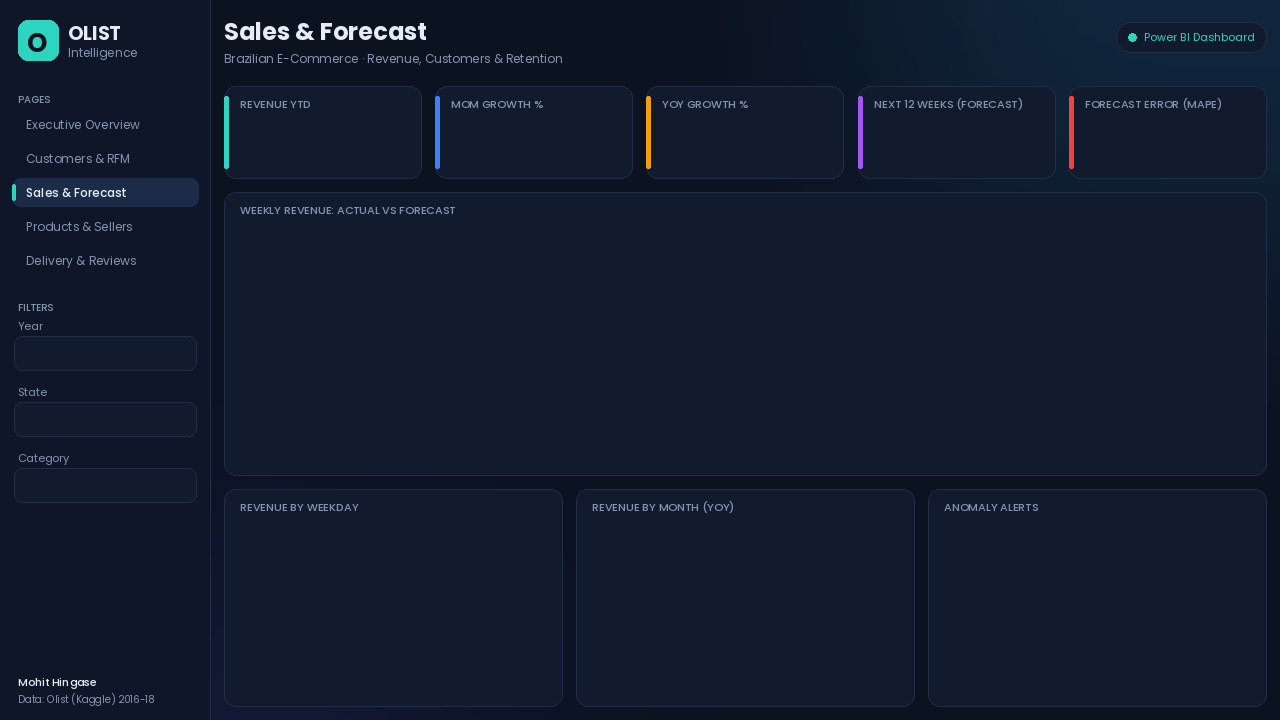

What the dashboard file says about the page in this screenshot:
{"tool":"powerbi","page":{"name":"Sales & Forecast","canvas":[1280,720],"ordinal":2},"visuals":[{"type":"card","fields":{"Values":["fact_orders.Revenue YTD"]},"box":[234,112,179,62],"z":1000},{"type":"card","fields":{"Values":["fact_orders.YoY Growth %"]},"box":[445,112,179,62],"z":1000},{"type":"card","fields":{"Values":["forecast_chart.Avg Weekly Revenue"]},"box":[656,112,179,62],"z":1000},{"type":"card","fields":{"Values":["forecast_chart.Forecast Next 12W"]},"box":[868,112,179,62],"z":1000},{"type":"card","fields":{"Values":["fact_orders.Forecast MAPE"]},"box":[1079,112,179,62],"z":1000},{"type":"lineChart","fields":{"Category":["forecast_chart.week"],"Y":["forecast_chart.Actual Revenue","forecast_chart.Forecast Revenue","forecast_chart.Forecast Lower","forecast_chart.Forecast Upper"]},"box":[230,222,1030,247],"z":1000},{"type":"columnChart","fields":{"Category":["dim_date.day_name"],"Y":["fact_orders.Revenue"]},"box":[230,519,326,181],"z":1000},{"type":"lineChart","fields":{"Category":["dim_date.month_name"],"Series":["dim_date.year"],"Y":["fact_orders.Revenue"]},"box":[582,519,326,181],"z":1000},{"type":"tableEx","fields":{"Values":["agg_revenue_anomalies.week","agg_revenue_anomalies.alert","agg_revenue_anomalies.revenue","agg_revenue_anomalies.change_pct"]},"box":[934,519,326,181],"z":1000},{"type":"slicer","fields":{"Values":["dim_date.year"]},"box":[14,351,182,40],"z":3000},{"type":"slicer","fields":{"Values":["dim_customer.state"]},"box":[14,417,182,40],"z":3000},{"type":"slicer","fields":{"Values":["dim_product.category"]},"box":[14,483,182,40],"z":3000},{"type":"actionButton","box":[12,110,186,28],"z":4000},{"type":"actionButton","box":[12,144,186,28],"z":4001},{"type":"actionButton","box":[12,212,186,28],"z":4003},{"type":"actionButton","box":[12,246,186,28],"z":4004}]}

Visuals, with their boxes on the page's 1280x720 design canvas (x1, y1, x2, y2). These are canvas units, not pixel positions in the 1280x720 screenshot, which may show the page scaled, cropped or inside an application window:
card - fact_orders.Revenue YTD: {"x1": 234, "y1": 112, "x2": 413, "y2": 174}
card - fact_orders.YoY Growth %: {"x1": 445, "y1": 112, "x2": 624, "y2": 174}
card - forecast_chart.Avg Weekly Revenue: {"x1": 656, "y1": 112, "x2": 835, "y2": 174}
card - forecast_chart.Forecast Next 12W: {"x1": 868, "y1": 112, "x2": 1047, "y2": 174}
card - fact_orders.Forecast MAPE: {"x1": 1079, "y1": 112, "x2": 1258, "y2": 174}
lineChart - forecast_chart.week x forecast_chart.Actual Revenue: {"x1": 230, "y1": 222, "x2": 1260, "y2": 469}
columnChart - dim_date.day_name x fact_orders.Revenue: {"x1": 230, "y1": 519, "x2": 556, "y2": 700}
lineChart - dim_date.month_name x dim_date.year: {"x1": 582, "y1": 519, "x2": 908, "y2": 700}
tableEx - agg_revenue_anomalies.week x agg_revenue_anomalies.alert: {"x1": 934, "y1": 519, "x2": 1260, "y2": 700}
slicer - dim_date.year: {"x1": 14, "y1": 351, "x2": 196, "y2": 391}
slicer - dim_customer.state: {"x1": 14, "y1": 417, "x2": 196, "y2": 457}
slicer - dim_product.category: {"x1": 14, "y1": 483, "x2": 196, "y2": 523}
actionButton: {"x1": 12, "y1": 110, "x2": 198, "y2": 138}
actionButton: {"x1": 12, "y1": 144, "x2": 198, "y2": 172}
actionButton: {"x1": 12, "y1": 212, "x2": 198, "y2": 240}
actionButton: {"x1": 12, "y1": 246, "x2": 198, "y2": 274}
